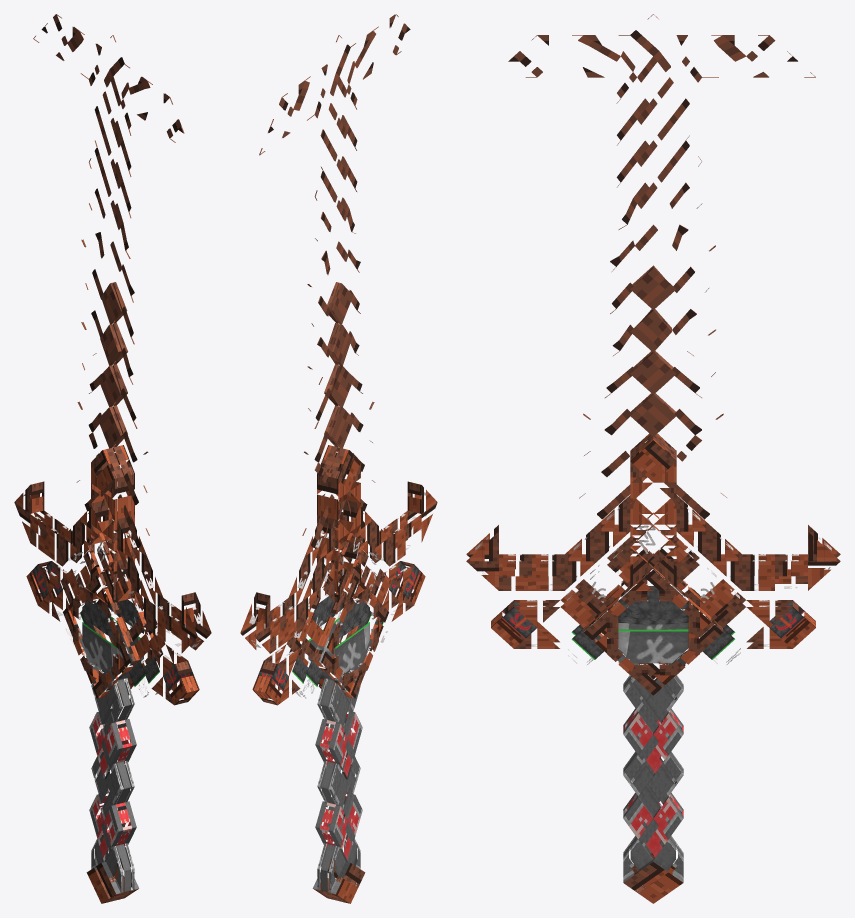
Rendered from open_sword.obj.
3 views of the same model, side by side, from view 1: azimuth 30°, elevation 25°; view 2: azimuth 150°, elevation 25°; view 3: azimuth 270°, elevation 25° (orthographic). The views are drawn at different scales.
Visible parts, largest first — view 1: open_sword.005_Cube.003; view 2: open_sword.005_Cube.003; view 3: open_sword.005_Cube.003.
Boxes of the visible parts, x1,y1,x2,y2 form: open_sword.005_Cube.003: [14, 14, 211, 903]; open_sword.005_Cube.003: [240, 14, 437, 903]; open_sword.005_Cube.003: [466, 14, 840, 903].
Bounding box in the file's own units: 0.0927 × 2.23 × 0.8558.
